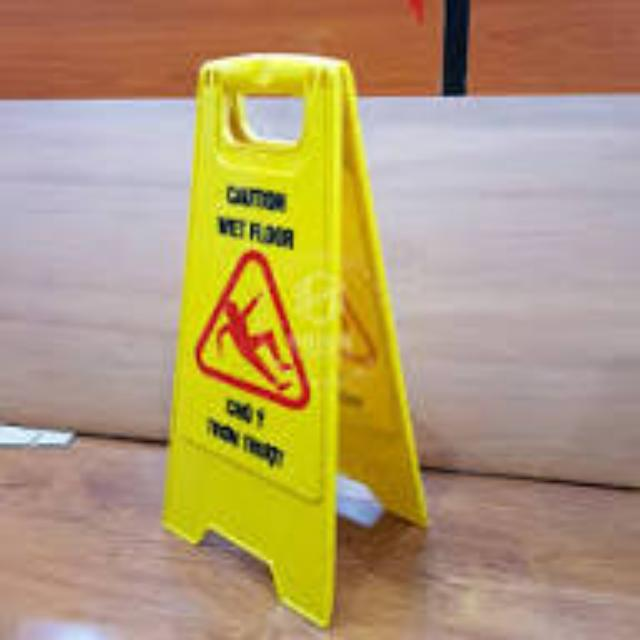tron truot: (163, 53, 423, 623)
